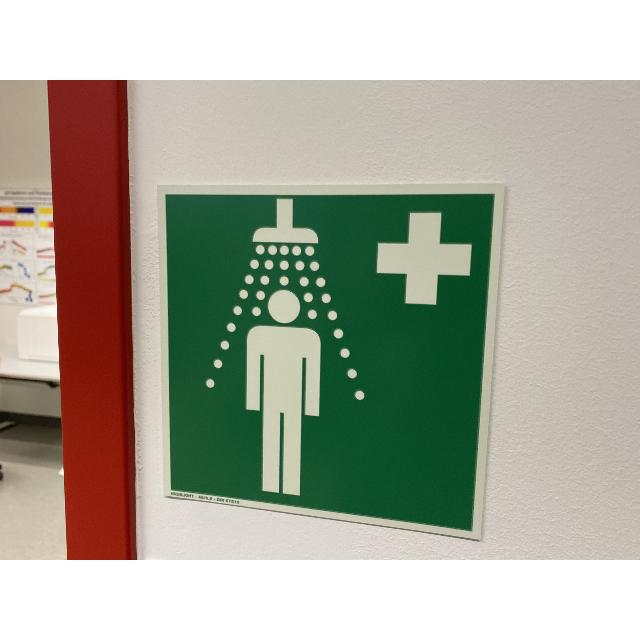shower: (157, 186, 501, 540)
